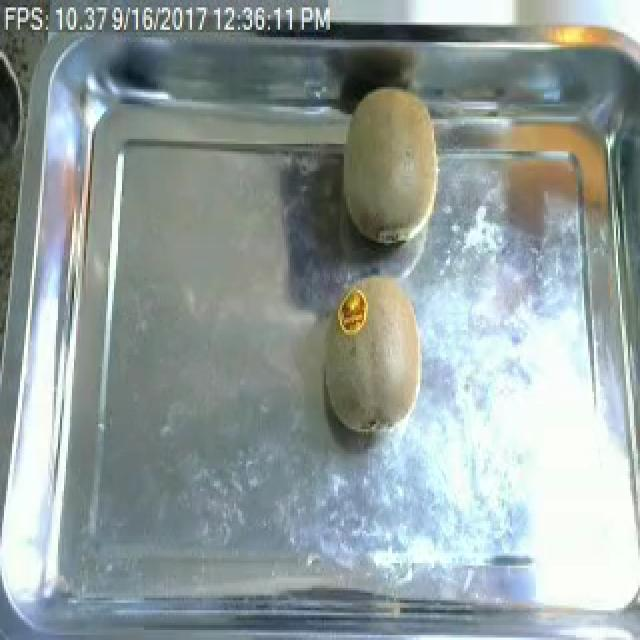Fruit: (334, 77, 450, 253), (318, 266, 432, 442)
